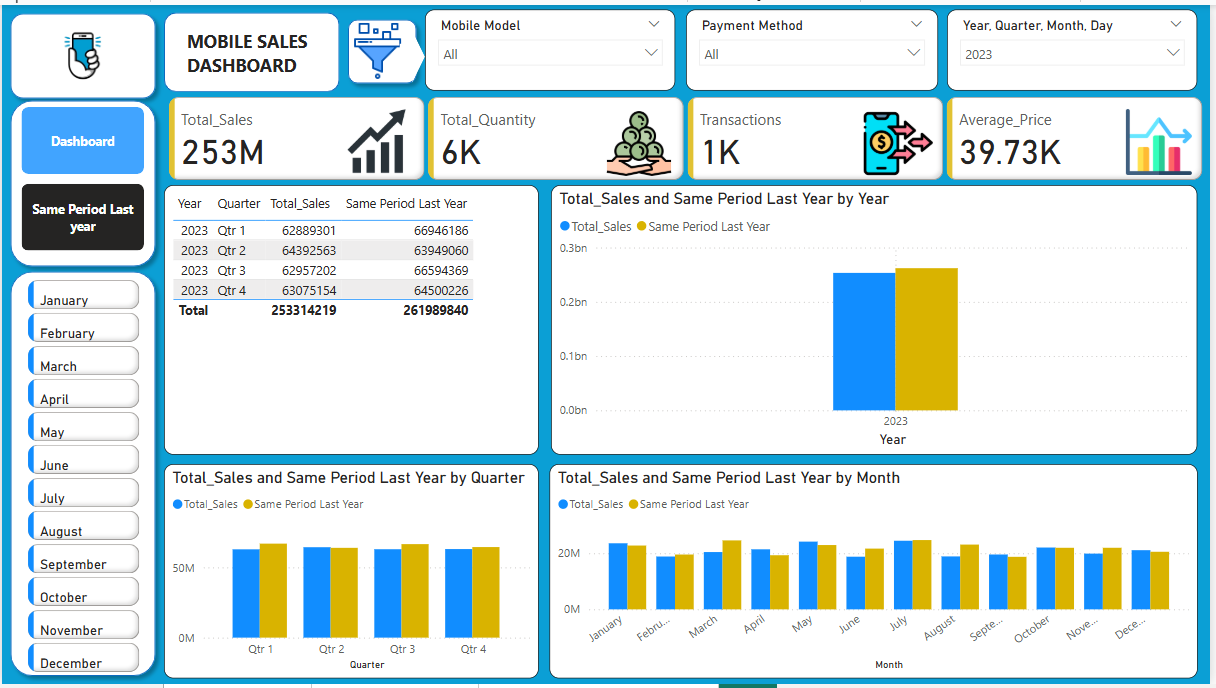

Layout of this report page (visuals, bound fields, positions):
{"tool":"powerbi","page":{"name":"Same Period Last year ","canvas":[1280,720],"ordinal":2},"visuals":[{"type":"shape","box":[0,0,171.8,108.2],"z":0},{"type":"image","box":[20.7,15.9,130.4,76.3],"z":1000},{"type":"shape","box":[0,92.3,171.8,194.1],"z":2000},{"type":"cardVisual","fields":{"Data":["Sales_Data.Total_Sales","Sales_Data.Total_Quantity","Sales_Data.Transactions","Sales_Data.Average_Price"]},"box":[171.7,91.7,1108.3,98.3],"z":3000},{"type":"slicer","fields":{"Values":["Sales_Data.Mobile Model"]},"box":[448.6,4.8,265.6,85.9],"z":4000},{"type":"slicer","fields":{"Values":["Sales_Data.Payment Method"]},"box":[725.3,4.8,267.2,85.9],"z":5000},{"type":"slicer","fields":{"Values":["custom_calender.Date.Variation.Date Hierarchy.Year","custom_calender.Date.Variation.Date Hierarchy.Quarter","custom_calender.Date.Variation.Date Hierarchy.Month","custom_calender.Date.Variation.Date Hierarchy.Day"]},"box":[1002.1,4.8,265.6,85.9],"z":6000},{"type":"shape","box":[357.9,6.4,90.7,85.9],"z":7000},{"type":"image","box":[216.3,12.7,364.2,71.6],"z":8000},{"type":"shape","box":[421.5,27,27,55.7],"z":9000},{"type":"shape","box":[171.8,8,186.1,84.3],"z":10000},{"type":"textbox","box":[190.9,20.7,147.9,65.2],"z":11000},{"type":"shape","box":[0,273,171.8,447],"z":12000},{"type":"advancedSlicerVisual","fields":{"Values":["custom_calender.Date.Variation.Date Hierarchy.Month"]},"box":[22.3,286.3,128.8,427.9],"z":13000},{"type":"tableEx","fields":{"Values":["custom_calender.Date.Variation.Date Hierarchy.Year","custom_calender.Date.Variation.Date Hierarchy.Quarter","Sales_Data.Total_Sales","Sales_Data.Same Period Last Year"]},"box":[171.8,190.9,397.7,286.3],"z":14000},{"type":"clusteredColumnChart","fields":{"Category":["custom_calender.Date.Variation.Date Hierarchy.Year","custom_calender.Date.Variation.Date Hierarchy.Quarter"],"Y":["Sales_Data.Total_Sales","Sales_Data.Same Period Last Year"]},"box":[582.2,190.9,685.6,286.3],"z":15000},{"type":"clusteredColumnChart","fields":{"Category":["custom_calender.Date.Variation.Date Hierarchy.Year","custom_calender.Date.Variation.Date Hierarchy.Quarter"],"Y":["Sales_Data.Total_Sales","Sales_Data.Same Period Last Year"]},"box":[171.8,486.7,397.7,227.5],"z":16000},{"type":"clusteredColumnChart","fields":{"Y":["Sales_Data.Total_Sales","Sales_Data.Same Period Last Year"],"Category":["custom_calender.Date.Variation.Date Hierarchy.Year","custom_calender.Date.Variation.Date Hierarchy.Quarter","custom_calender.Date.Variation.Date Hierarchy.Month","custom_calender.Date.Variation.Date Hierarchy.Day"]},"box":[580.6,486.7,687.1,227.5],"z":17000},{"type":"pageNavigator","box":[20.7,108.2,130.4,152.7],"z":17001}]}

Visuals, with their boxes in screenshot pixels (x1, y1, x2, y2), scaled from the page's 1280x720 canvas onto the 1216x688 screenshot:
shape: region(0, 0, 163, 103)
image: region(20, 15, 144, 88)
shape: region(0, 88, 163, 274)
cardVisual - Sales_Data.Total_Sales x Sales_Data.Total_Quantity: region(163, 88, 1215, 182)
slicer - Sales_Data.Mobile Model: region(426, 5, 678, 87)
slicer - Sales_Data.Payment Method: region(689, 5, 943, 87)
slicer - custom_calender.Date.Variation.Date Hierarchy.Year x custom_calender.Date.Variation.Date Hierarchy.Quarter: region(952, 5, 1204, 87)
shape: region(340, 6, 426, 88)
image: region(205, 12, 551, 81)
shape: region(400, 26, 426, 79)
shape: region(163, 8, 340, 88)
textbox: region(181, 20, 322, 82)
shape: region(0, 261, 163, 687)
advancedSlicerVisual - custom_calender.Date.Variation.Date Hierarchy.Month: region(21, 274, 144, 682)
tableEx - custom_calender.Date.Variation.Date Hierarchy.Year x custom_calender.Date.Variation.Date Hierarchy.Quarter: region(163, 182, 541, 456)
clusteredColumnChart - custom_calender.Date.Variation.Date Hierarchy.Year x custom_calender.Date.Variation.Date Hierarchy.Quarter: region(553, 182, 1204, 456)
clusteredColumnChart - custom_calender.Date.Variation.Date Hierarchy.Year x custom_calender.Date.Variation.Date Hierarchy.Quarter: region(163, 465, 541, 682)
clusteredColumnChart - Sales_Data.Total_Sales x Sales_Data.Same Period Last Year: region(552, 465, 1204, 682)
pageNavigator: region(20, 103, 144, 249)
